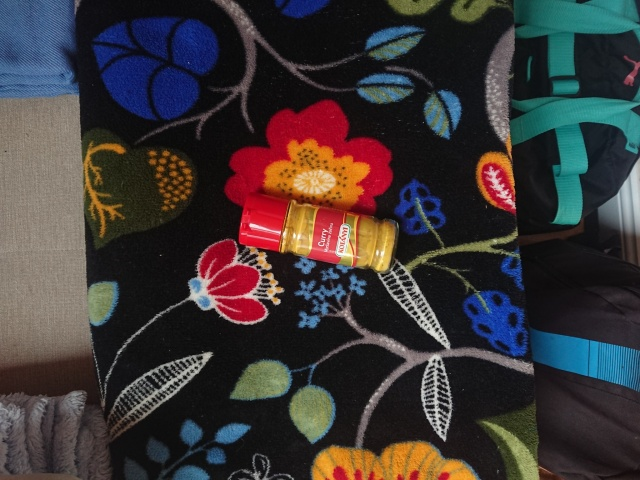Kotanyi Curry Spices Mix 70g: (236, 190, 402, 276)
